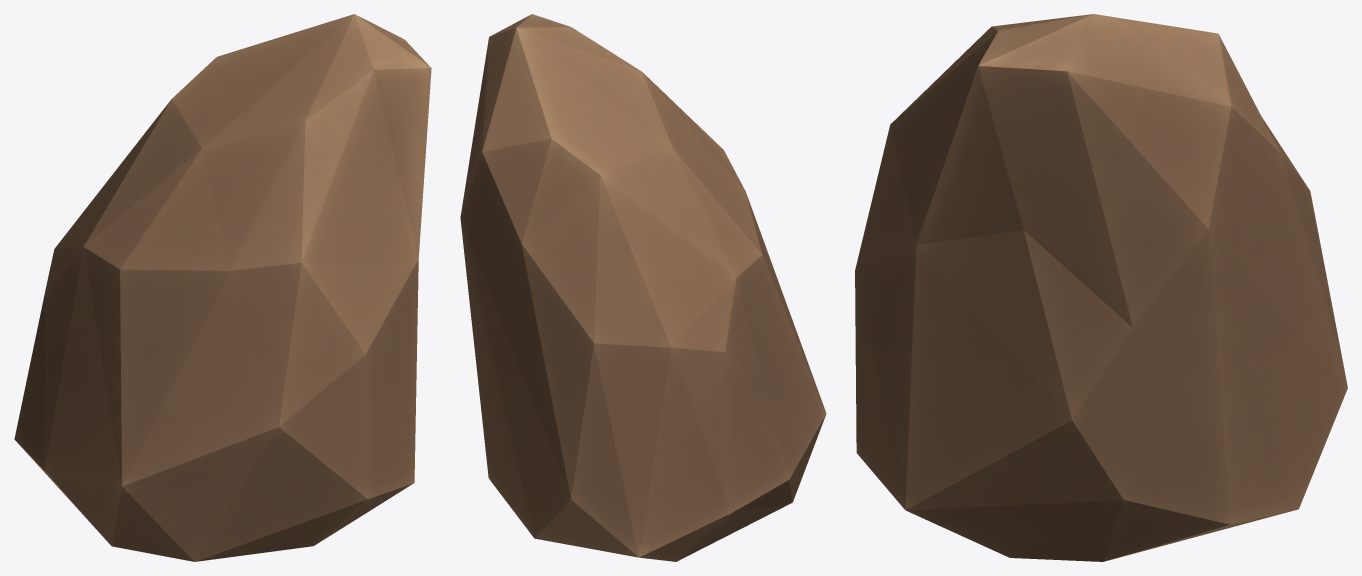
File: Rock_4.fbx
The picture shows the model from 3 angles, left to right: view 1: azimuth 30°, elevation 25°; view 2: azimuth 150°, elevation 25°; view 3: azimuth 270°, elevation 25°; orthographic projection. The views are drawn at different scales.
Visible parts, largest first — view 1: Rock_4; view 2: Rock_4; view 3: Rock_4.
Boxes of the visible parts, <box> form: Rock_4: <box>14,14,431,561</box>; Rock_4: <box>460,14,826,561</box>; Rock_4: <box>855,14,1347,561</box>.
Bounding box in the file's own units: 28.03 × 35.74 × 28.68.
